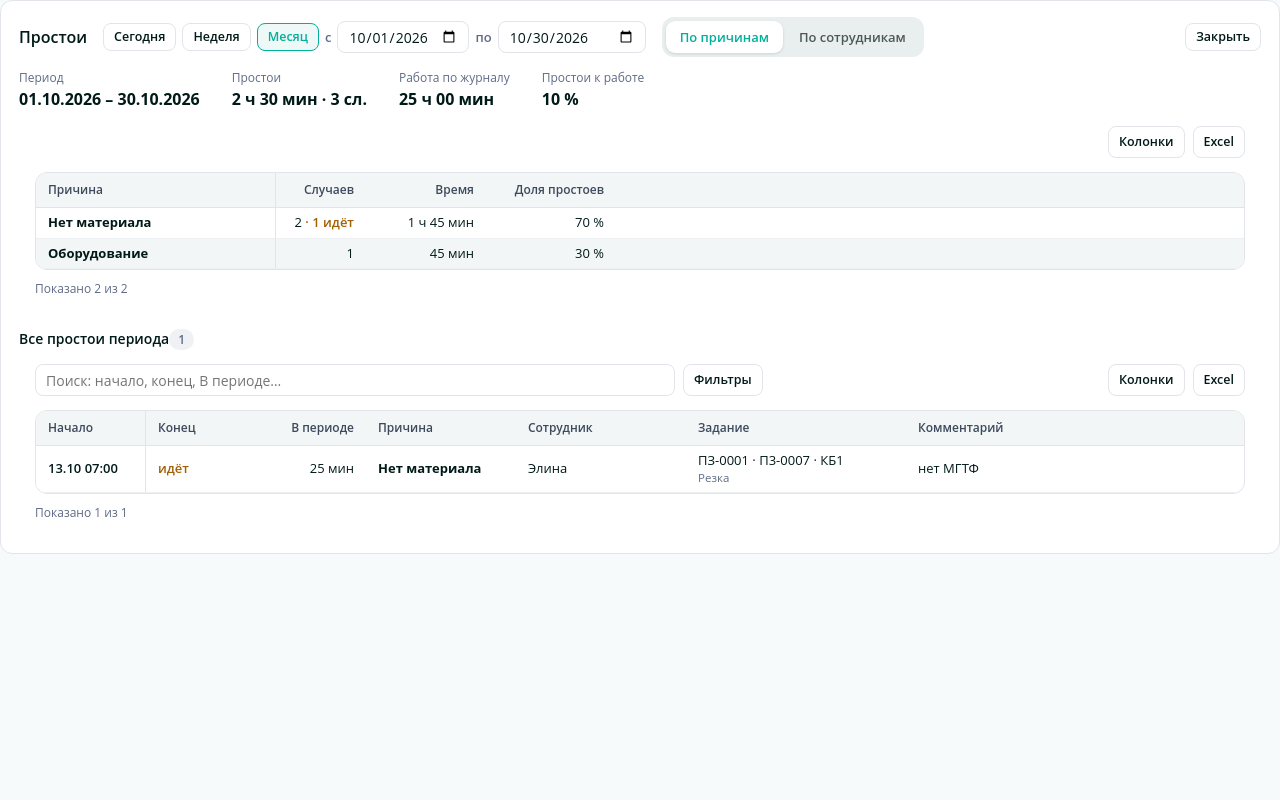
Test: reports the period sums by reason and switches to people
Expected: the element named "Простои по группам" is shown, [19, 122, 1261, 313]
Expected: the row "Нет материала 2 · 1 идёт 1 ч 45 мин 70 %" is shown, [36, 208, 1244, 238]
Click the radio button labelled "По сотрудникам" at (852, 37), box [785, 21, 920, 53]
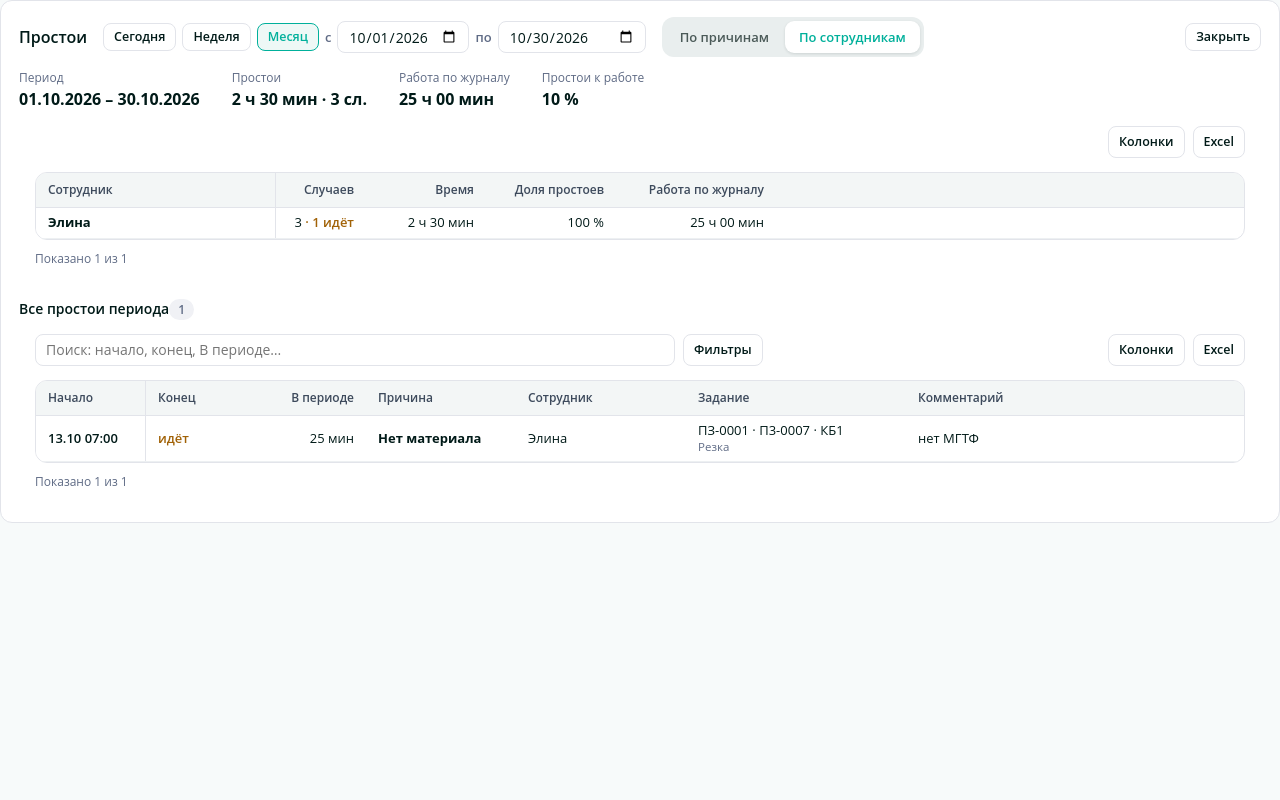
Now the button "Работа по журналу" is shown, box [649, 182, 764, 198]
